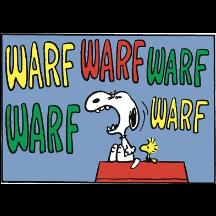snoopy: (84, 90, 142, 168)
